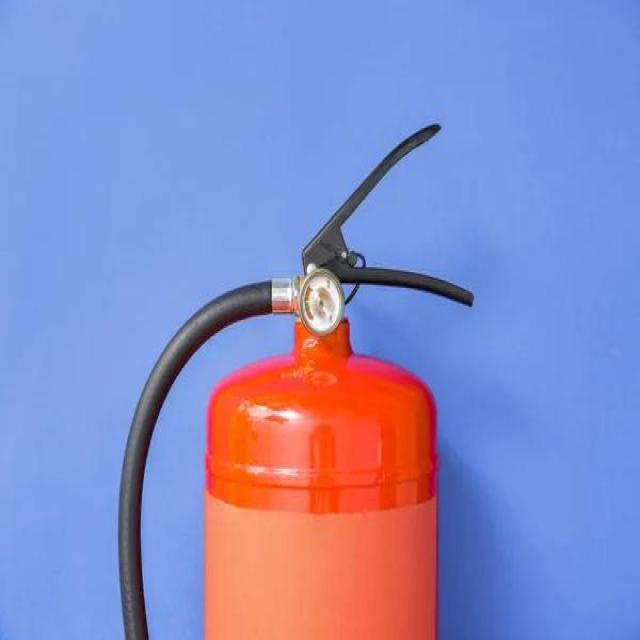fire_extinguisher: (112, 116, 476, 638)
